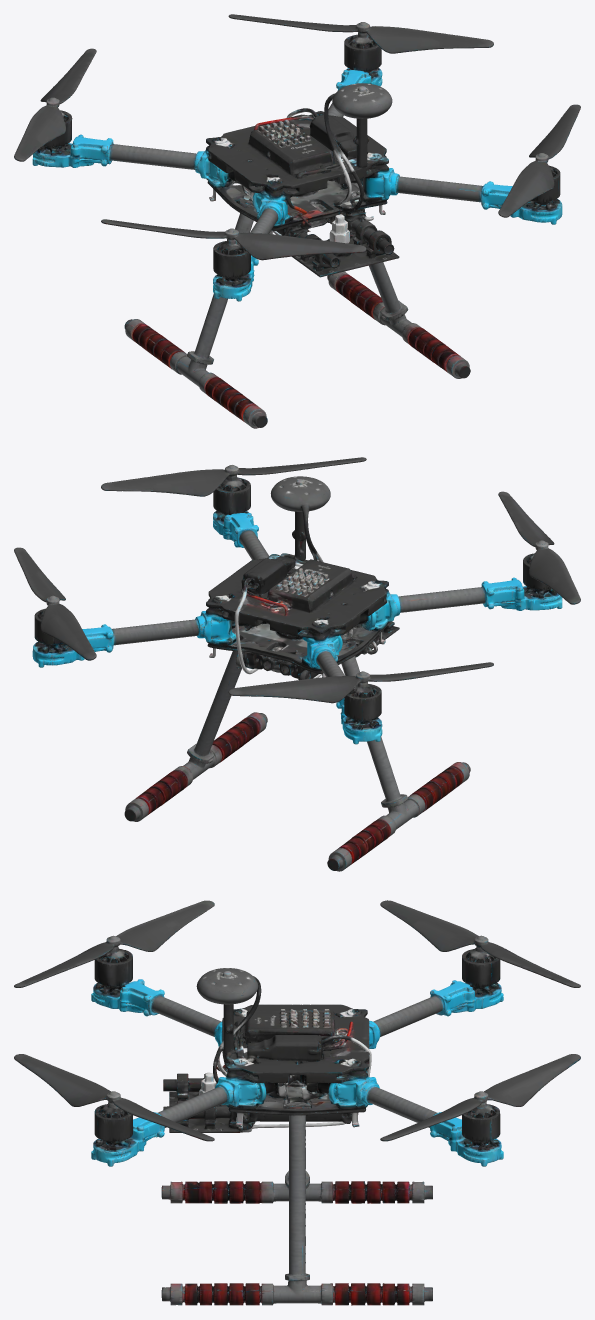
3 renders of one model, top to bottom at view 1: azimuth 30°, elevation 25°; view 2: azimuth 150°, elevation 25°; view 3: azimuth 270°, elevation 25°, orthographic. The views are drawn at different scales.
Size of the model in its own units: 2 by 1.16 by 2.
Materials: 1 (1 with a texture image).
